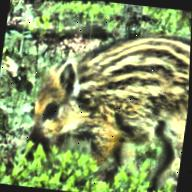boar: (0, 5, 192, 192)
